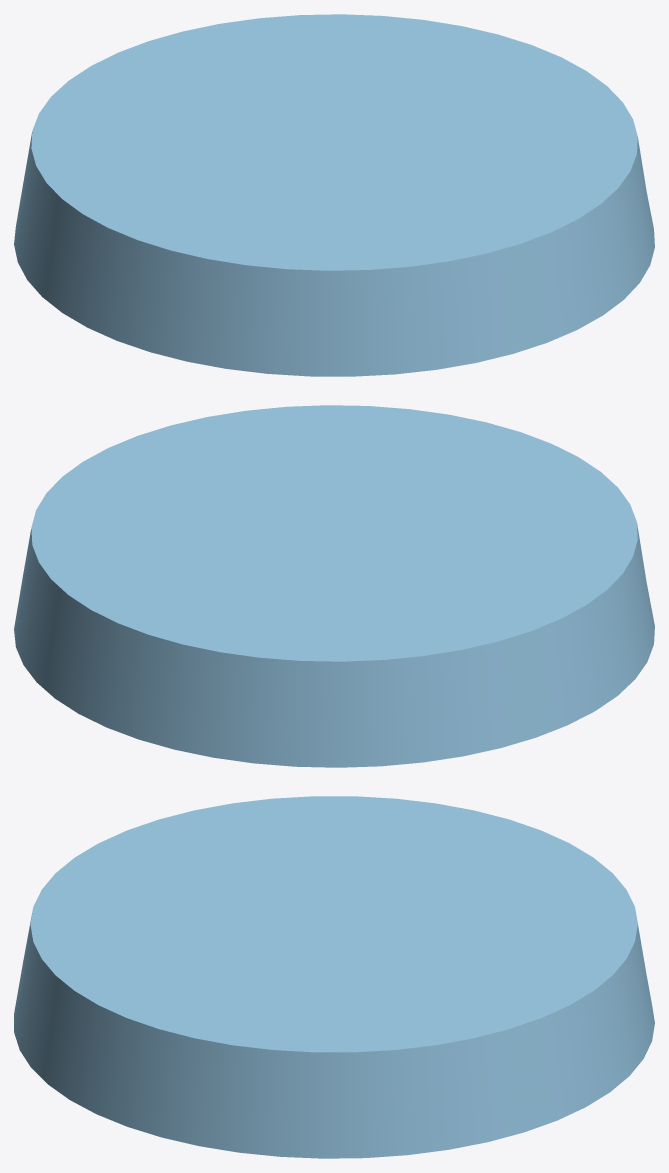
File: 85_tapa_corcho.glb
The picture shows the model from 3 angles, top to bottom: view 1: azimuth 30°, elevation 25°; view 2: azimuth 150°, elevation 25°; view 3: azimuth 270°, elevation 25°; orthographic projection.
Visible parts, largest first — view 1: Part 1; view 2: Part 1; view 3: Part 1.
Boxes of the visible parts, left/top/right/bottom form: Part 1: left=14, top=14, right=654, bottom=376; Part 1: left=14, top=405, right=654, bottom=767; Part 1: left=14, top=796, right=654, bottom=1158.
Bounding box in the file's own units: 0.0882 × 0.015 × 0.0881.
